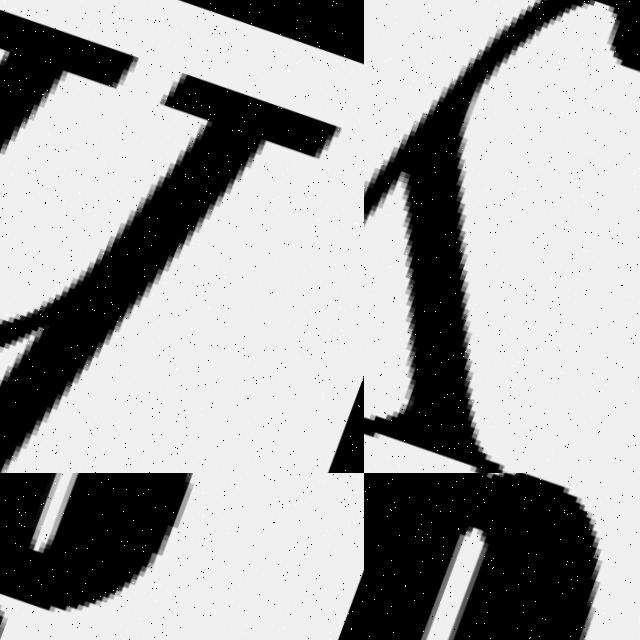G: (0, 473, 310, 640)
H: (0, 0, 350, 473)
Q: (364, 473, 640, 640)
Y: (364, 0, 640, 473)
